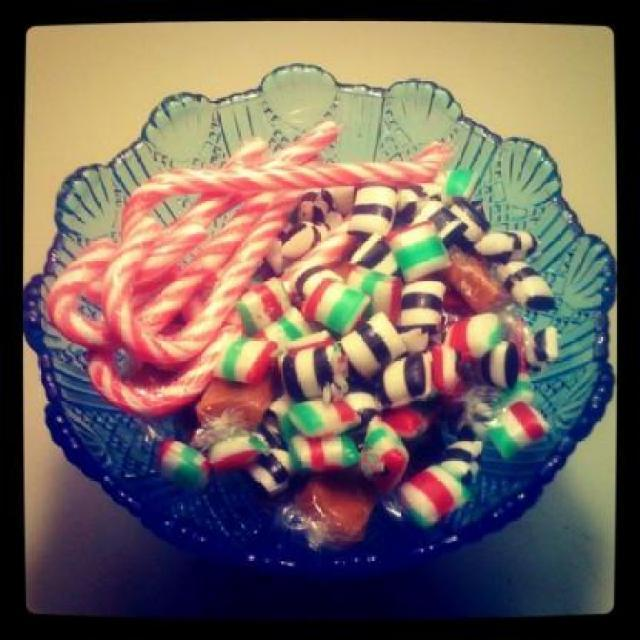Candy: (72, 130, 576, 544)
